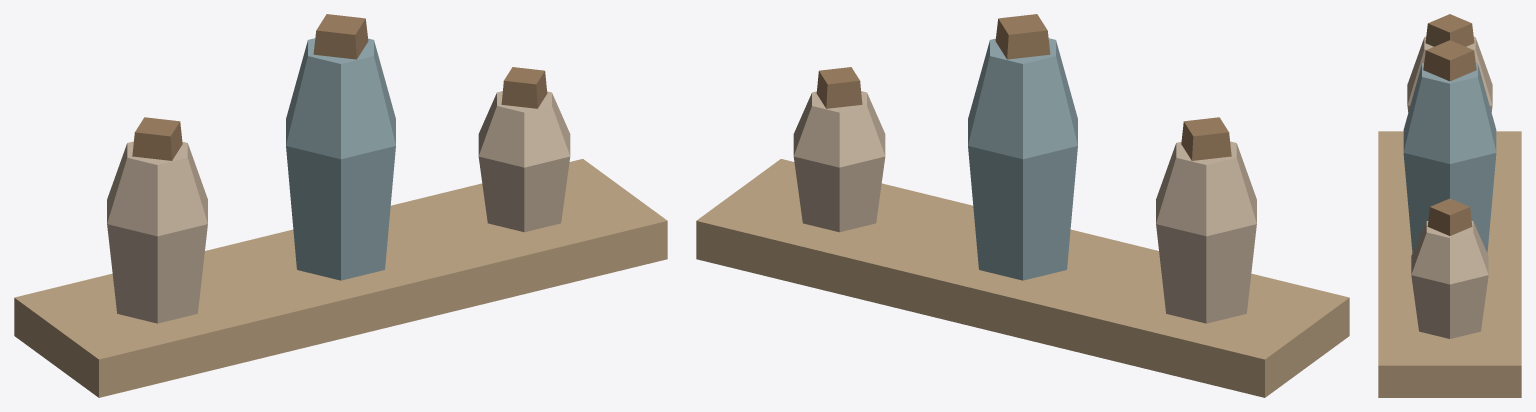
File: prop-apothecary-jar-row.fbx
3 renders of one model, left to right at view 1: azimuth 30°, elevation 25°; view 2: azimuth 150°, elevation 25°; view 3: azimuth 270°, elevation 25°, orthographic. The views are drawn at different scales.
Visible parts, largest first — view 1: prop-apothecary-jar-row; view 2: prop-apothecary-jar-row; view 3: prop-apothecary-jar-row.
Part boxes in pixels (x1,y1,x2,y2): prop-apothecary-jar-row: [14, 14, 667, 397]; prop-apothecary-jar-row: [696, 14, 1349, 397]; prop-apothecary-jar-row: [1378, 14, 1521, 397].
Size of the model in its own units: 62 by 28.45 by 16.
